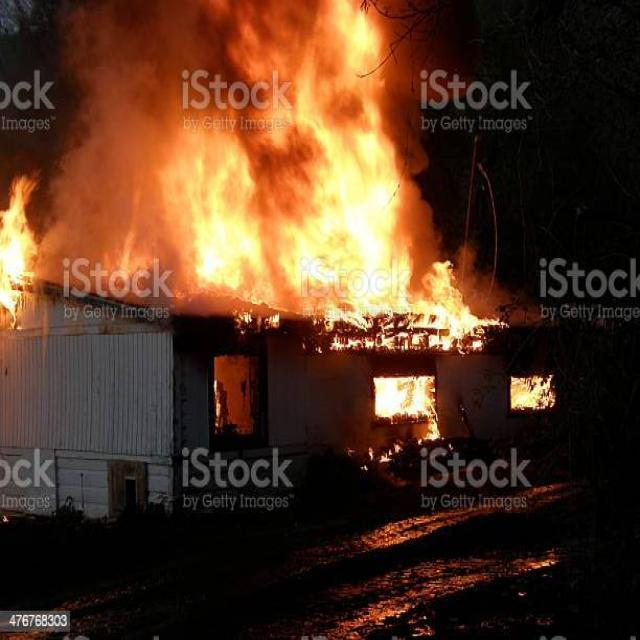Fire: (215, 2, 486, 354), (0, 172, 38, 332), (372, 374, 442, 446), (508, 372, 558, 412)
